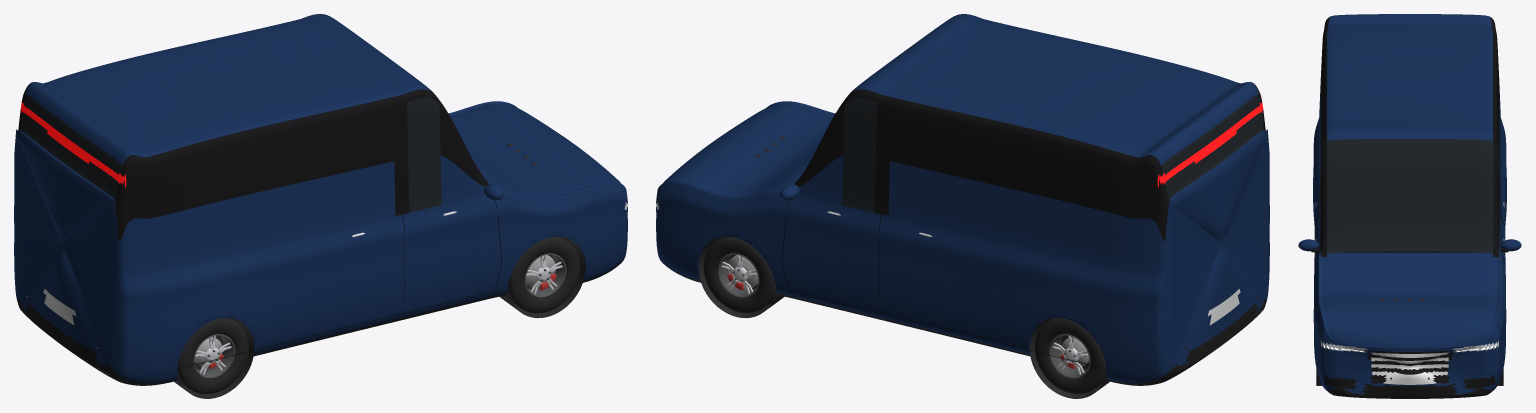
File: transporter.glb
The picture shows the model from 3 angles, left to right: view 1: azimuth 30°, elevation 25°; view 2: azimuth 150°, elevation 25°; view 3: azimuth 270°, elevation 25°; orthographic projection. The views are drawn at different scales.
Visible parts, largest first — view 1: karosserie, bt:rad_vr, bt:rad_hr, radhausschale.001, radhausschale.003; view 2: karosserie, bt:rad_vl, bt:rad_hl, radhausschale, radhausschale.002; view 3: karosserie.
Part boxes in pixels (left/top/right/bottom): karosserie: left=14, top=14, right=627, bottom=385; bt:rad_vr: left=508, top=236, right=580, bottom=313; bt:rad_hr: left=177, top=318, right=249, bottom=393; radhausschale.001: left=499, top=237, right=585, bottom=318; radhausschale.003: left=174, top=318, right=254, bottom=398; karosserie: left=656, top=14, right=1269, bottom=385; bt:rad_vl: left=703, top=236, right=775, bottom=313; bt:rad_hl: left=1034, top=318, right=1106, bottom=393; radhausschale: left=698, top=237, right=784, bottom=318; radhausschale.002: left=1029, top=318, right=1109, bottom=398; karosserie: left=1313, top=14, right=1506, bottom=398.
Size of the model in its own units: 5.24 by 2.42 by 2.36.
